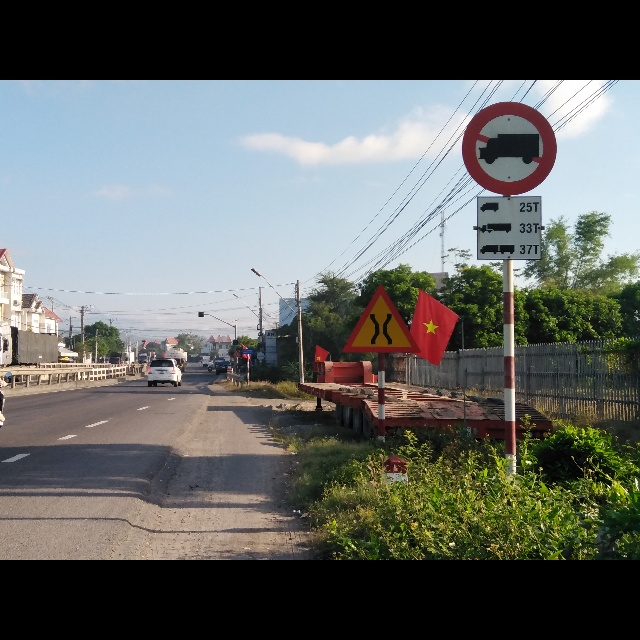Cấm xe tải: (463, 102, 558, 195)
Cầu hẹp: (345, 284, 420, 353)
